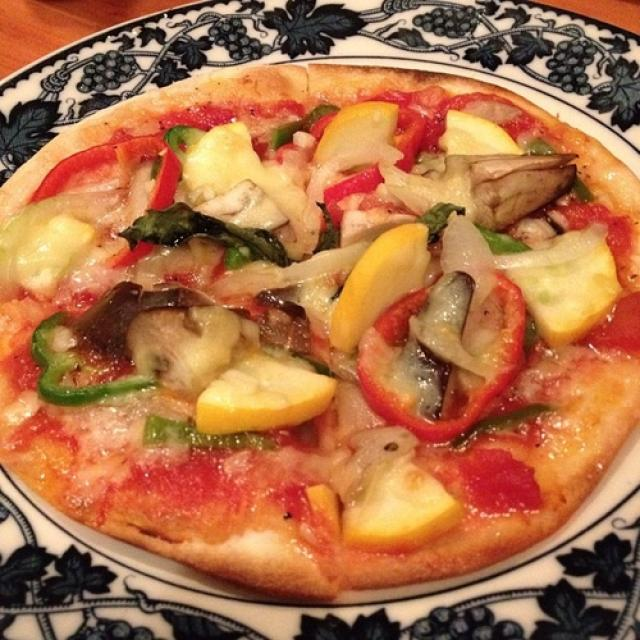面包点心: (9, 34, 635, 594)
